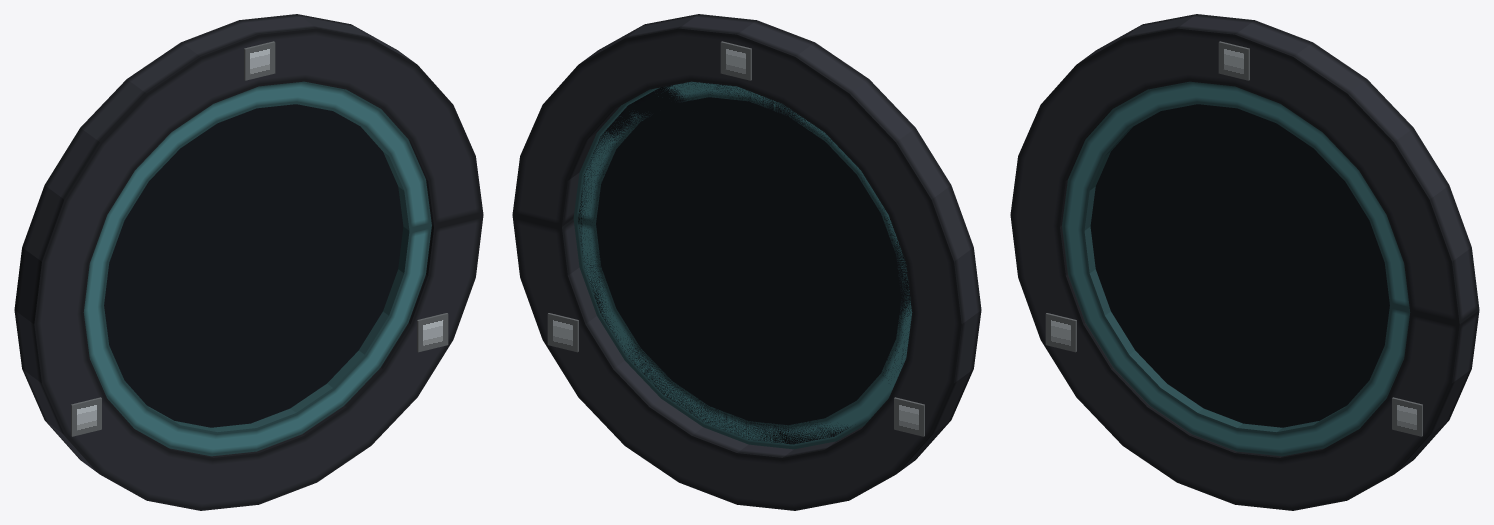
The model's file is Portal.obj.
3 views of the same model, side by side, from view 1: azimuth 30°, elevation 25°; view 2: azimuth 150°, elevation 25°; view 3: azimuth 330°, elevation 25° (orthographic).
Parts seen in each view (by area): view 1: Portal_Frame, Portal_Surface, Portal_AccentRing, Portal_Node0, Portal_Node2, Portal_Node1; view 2: Portal_Surface, Portal_Frame, Portal_AccentRing, Portal_Node0, Portal_Node2, Portal_Node1; view 3: Portal_Frame, Portal_Surface, Portal_AccentRing, Portal_Node0, Portal_Node1, Portal_Node2.
Part boxes in pixels (x1,y1,x2,y2): Portal_Frame: [14, 14, 483, 510]; Portal_Surface: [104, 104, 403, 427]; Portal_AccentRing: [83, 81, 431, 456]; Portal_Node0: [244, 41, 275, 80]; Portal_Node2: [417, 313, 448, 352]; Portal_Node1: [71, 397, 101, 436]; Portal_Surface: [578, 82, 911, 444]; Portal_Frame: [512, 14, 981, 510]; Portal_AccentRing: [573, 81, 912, 449]; Portal_Node0: [720, 41, 751, 80]; Portal_Node2: [547, 313, 578, 352]; Portal_Node1: [894, 397, 924, 436]; Portal_Frame: [1010, 14, 1479, 510]; Portal_Surface: [1090, 104, 1389, 427]; Portal_AccentRing: [1062, 81, 1410, 456]; Portal_Node0: [1218, 41, 1249, 80]; Portal_Node1: [1045, 313, 1076, 352]; Portal_Node2: [1392, 397, 1422, 436].
Bounding box in the file's own units: 3 × 3 × 0.26.
6 materials, 6 textured.
